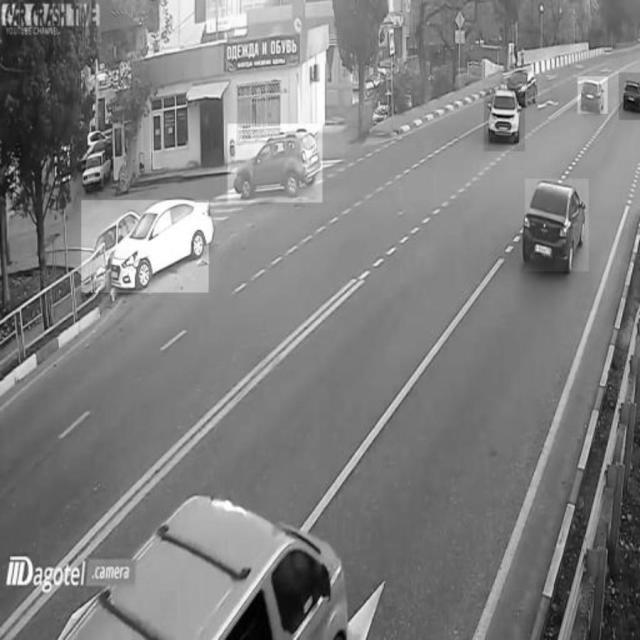accident: (82, 200, 210, 292)
vehicle: (227, 124, 323, 202), (525, 178, 589, 270), (484, 89, 525, 151), (505, 65, 541, 106), (82, 146, 110, 191), (577, 77, 607, 114), (619, 73, 639, 120)
